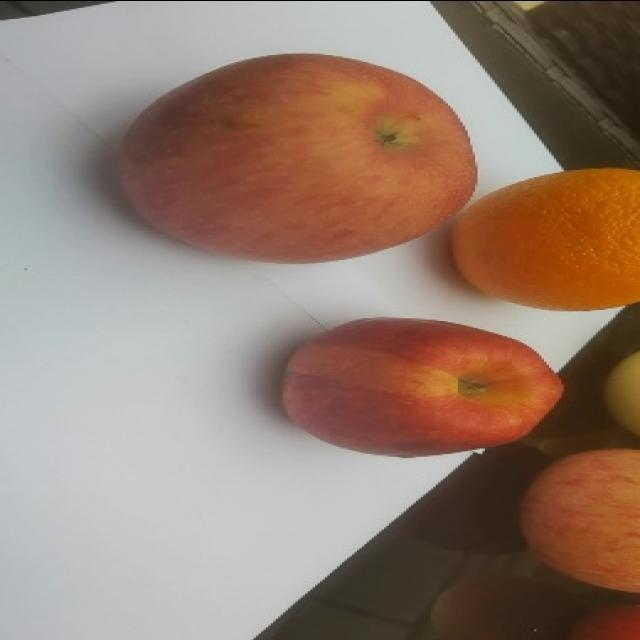Apple: (116, 51, 478, 264), (280, 315, 564, 458), (518, 447, 639, 593)
Orange: (451, 166, 639, 311)
